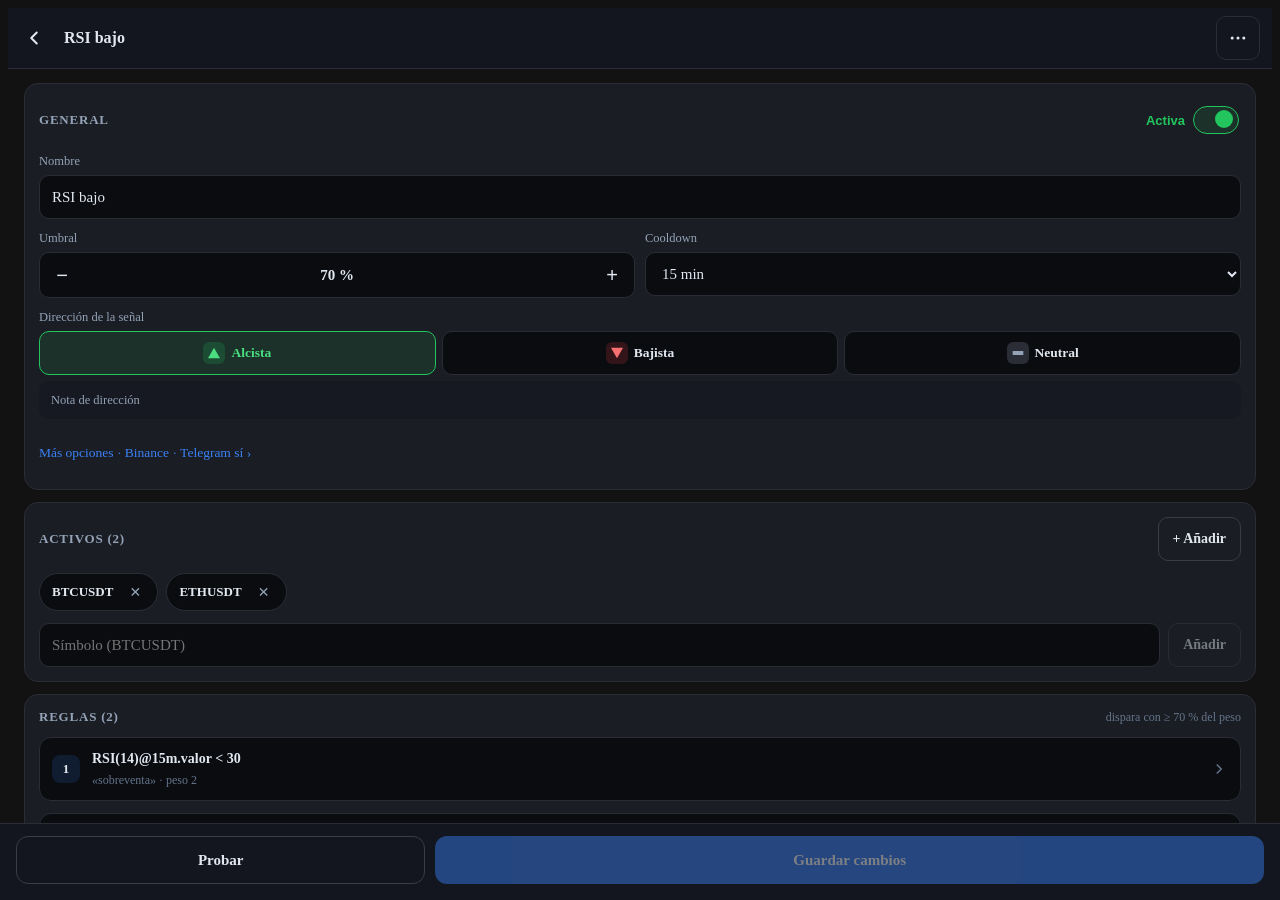
Test case: MobileAlertEditor › «Probar» abre el resultado en una hoja
Click the button "Probar" at (221, 860), box [16, 836, 425, 884]
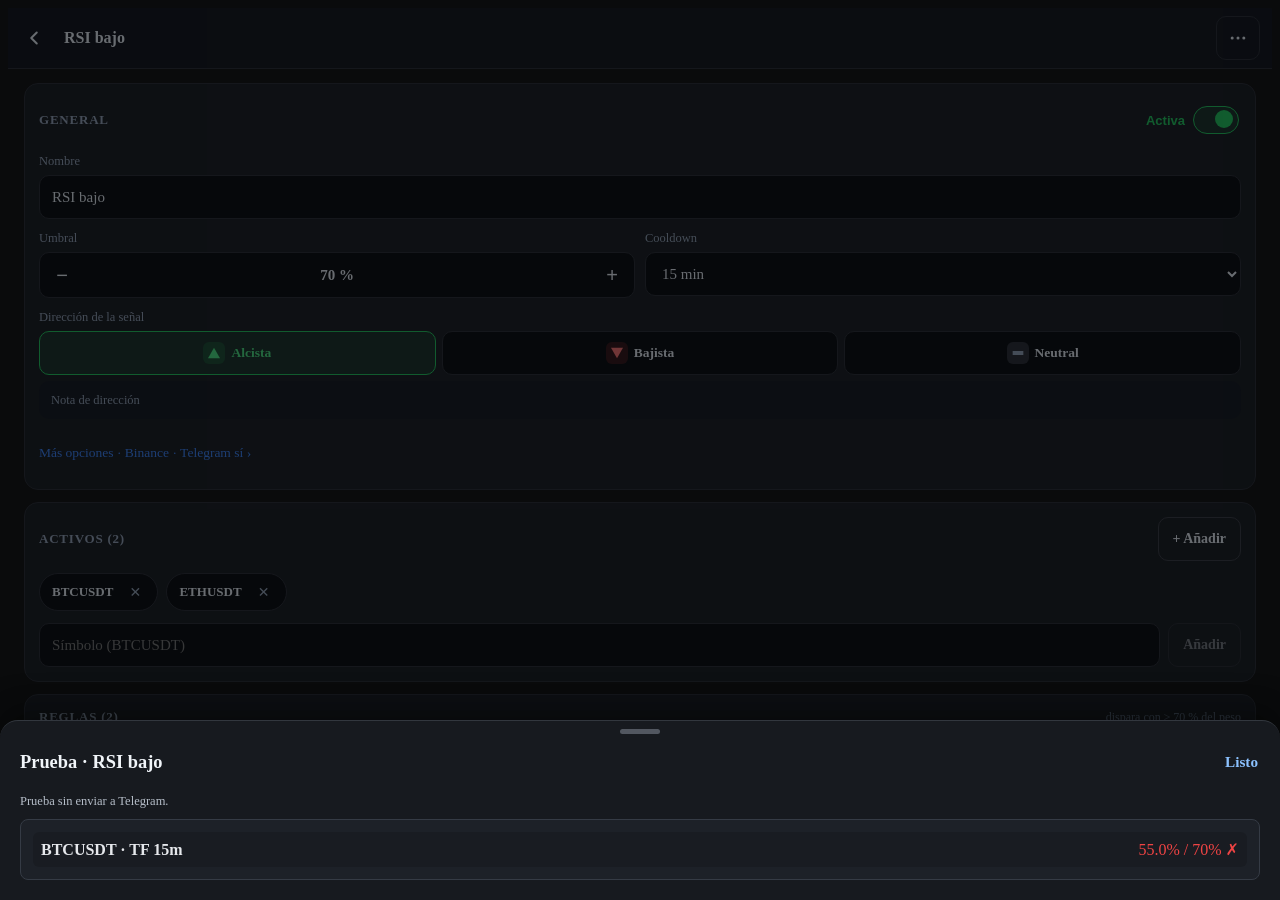
Now the text "55.0% / 70% ✗" is shown, box [1138, 840, 1239, 859]
Now the text "Prueba sin enviar a Telegram." is shown, box [20, 794, 168, 808]
